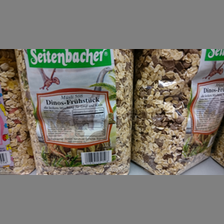cereal: (15, 49, 134, 174), (134, 49, 224, 176)
